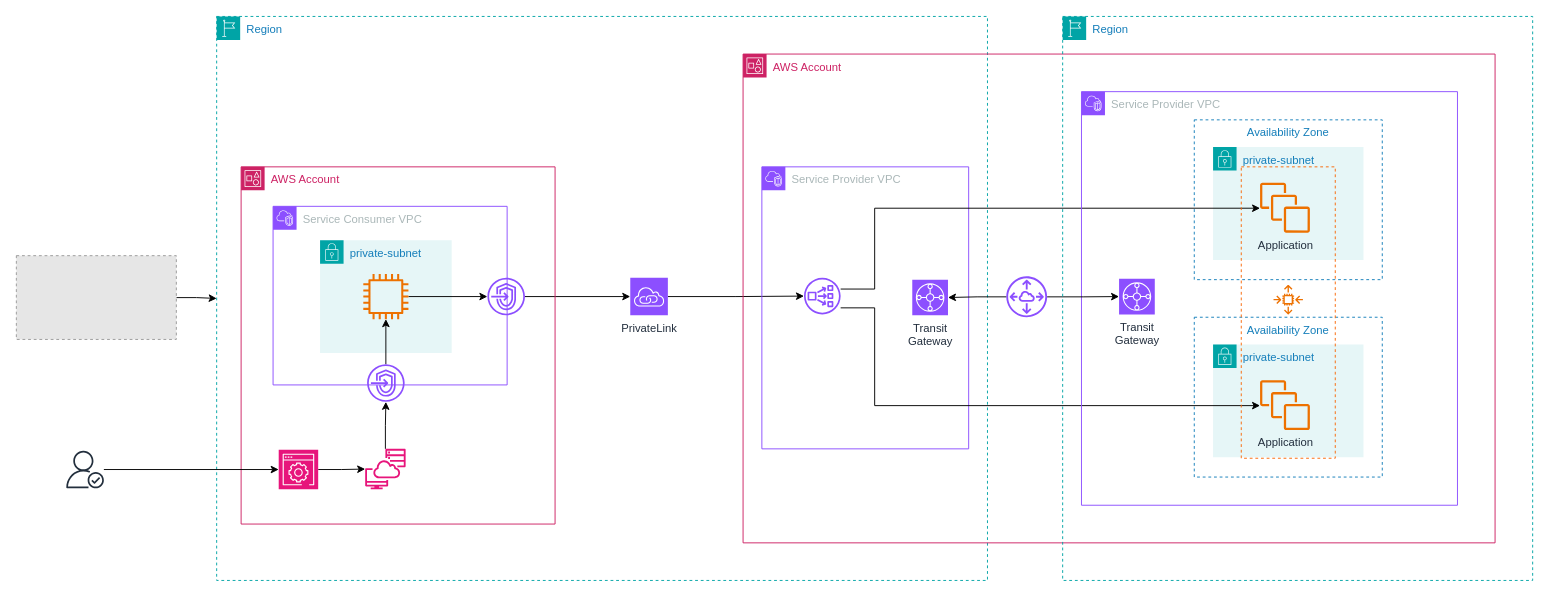
Image size: 1550x597. Some labels were removed from this diagram. Grey dashed boxes stand in for pictures. Here are the shapes that lost their labels. From the top down, the centre of each, then its label:
At [506,296]: "Interface Endpoint".
At [822,295]: "Network Load Balancer".
At [1026,296]: "Peering Connection".
At [385,382]: "Session Manager Endpoint".
At [298,469]: "Console".
At [385,468]: "Session Manager".
